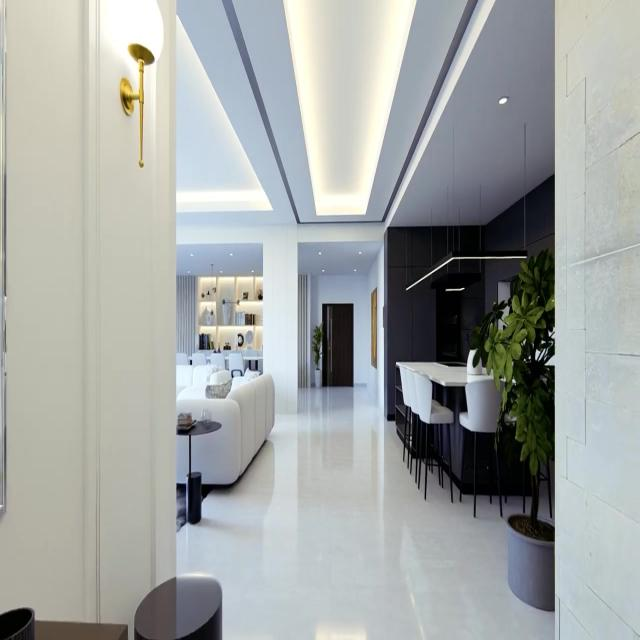door: (321, 302, 353, 387)
obstacle: (175, 362, 275, 487), (458, 380, 502, 518), (412, 369, 453, 502), (197, 275, 263, 357), (176, 418, 222, 526)
